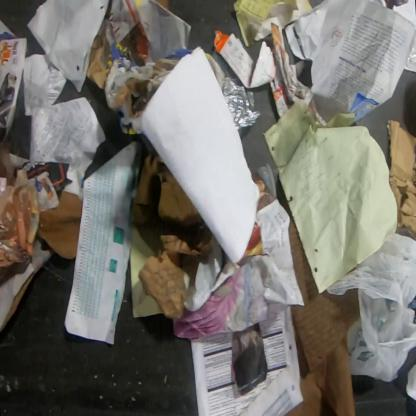cardboard: (280, 191, 360, 415), (131, 152, 216, 321), (104, 40, 194, 138), (0, 235, 56, 334), (213, 29, 278, 89), (385, 119, 415, 237), (37, 188, 83, 260), (86, 27, 110, 91), (252, 172, 275, 212)
rigid_plastic: (251, 161, 279, 200)
soft_plastic: (326, 233, 416, 383), (210, 46, 262, 133), (404, 28, 415, 75)
